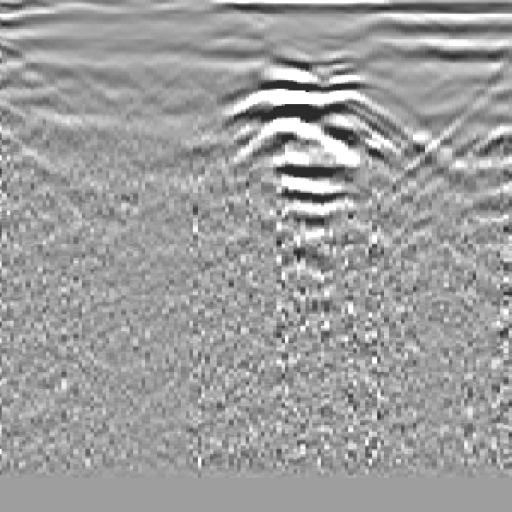metalic: (216, 45, 408, 279)
